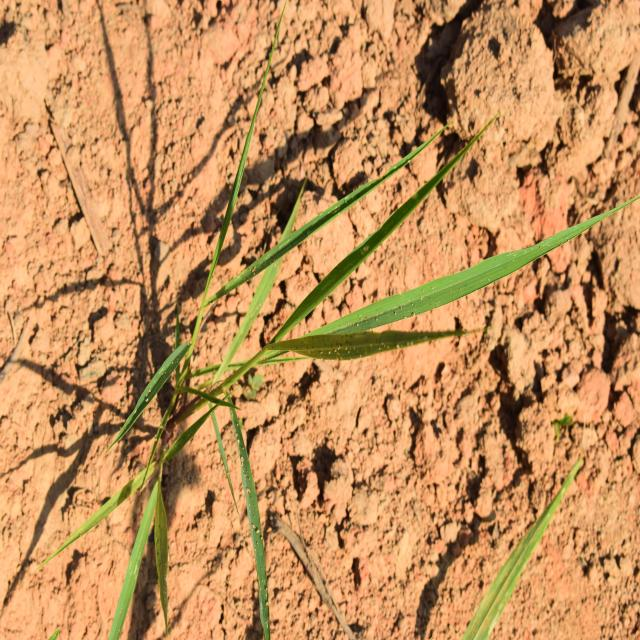green_foxtail: (164, 115, 527, 377)
